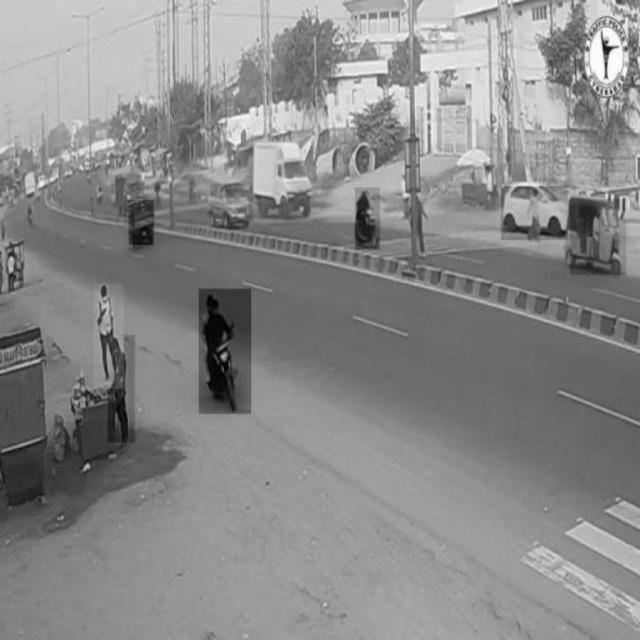person: (94, 284, 124, 388), (108, 335, 135, 443)
vehicle: (199, 289, 251, 413), (254, 139, 312, 222), (570, 199, 626, 275), (501, 187, 567, 241), (210, 180, 252, 222), (355, 188, 380, 250), (129, 201, 154, 246)
